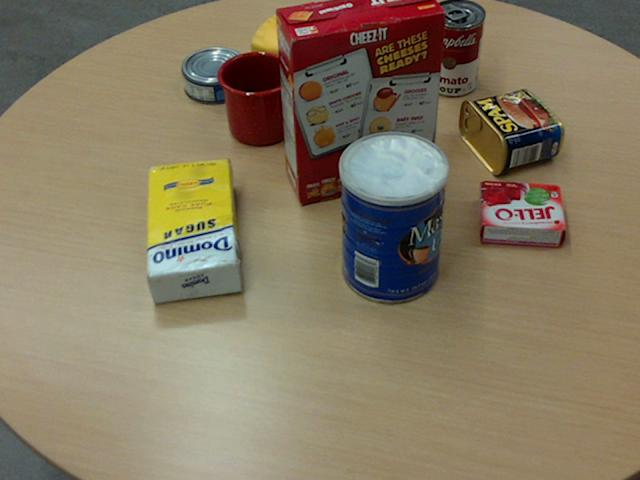cracker_box: (275, 0, 446, 202)
gelatin_box: (479, 179, 565, 245)
large_marker: (392, 33, 412, 124)
master_chef_can: (338, 131, 447, 304)
mug: (216, 50, 310, 145)
mustard_bottle: (250, 11, 396, 88)
potted_meat_can: (457, 88, 562, 174)
sugar_box: (144, 157, 240, 303)
tomato_soup_can: (426, 0, 485, 95)
tuna_fish_can: (180, 45, 247, 102)
